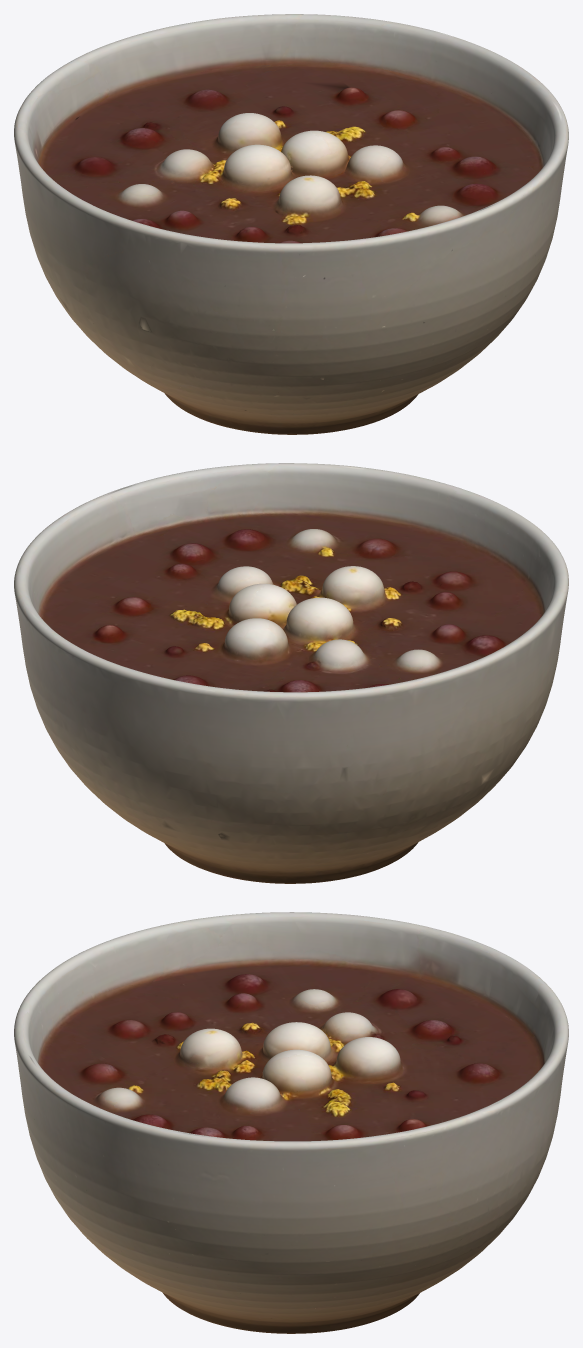
Rendered from Sweet Red Bean Soup with Rice Balls.glb.
3 renders of one model, top to bottom at view 1: azimuth 30°, elevation 25°; view 2: azimuth 150°, elevation 25°; view 3: azimuth 270°, elevation 25°, orthographic.
Parts seen in each view (by area): view 1: material; view 2: material; view 3: material.
Boxes of the visible parts, box(x1,y1,x2,y2) form: material: box(14, 14, 568, 434); material: box(14, 463, 568, 883); material: box(14, 912, 568, 1333).
Size of the model in its own units: 1.07 by 0.5373 by 1.07.
1 material, 1 textured.
